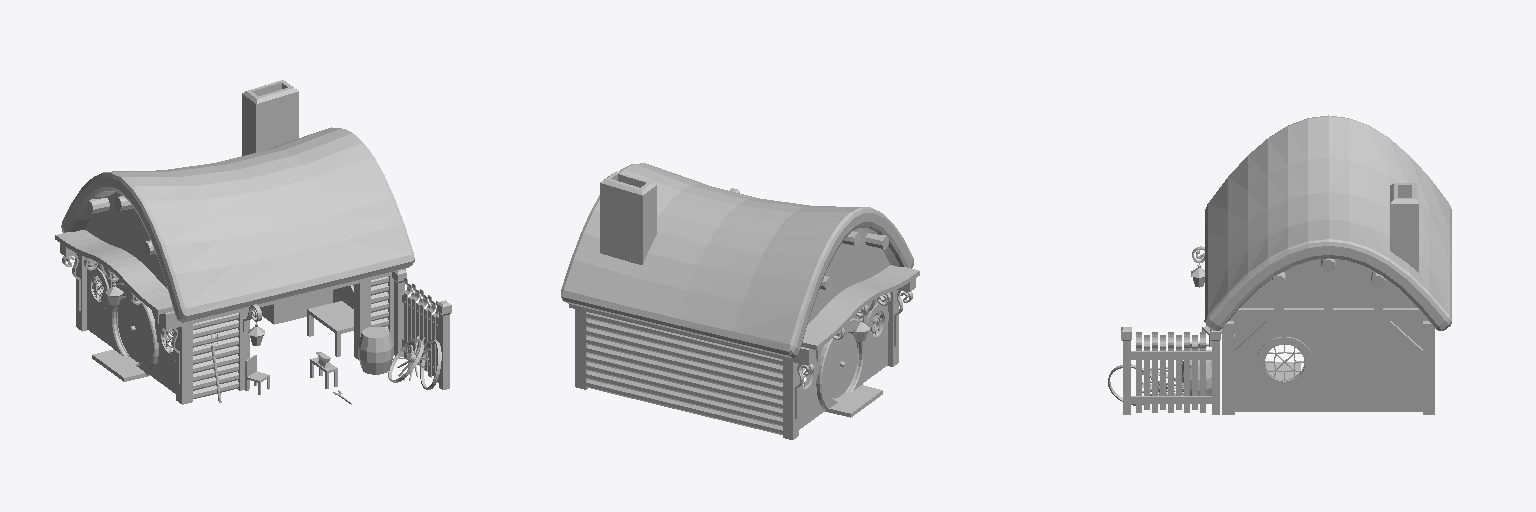
The model's file is house2.obj.
The picture shows the model from 3 angles: view 1: azimuth 30°, elevation 25°; view 2: azimuth 150°, elevation 25°; view 3: azimuth 270°, elevation 25°; orthographic projection.
Visible parts, largest first — view 1: black_smith:Object_Blksmith_jpg; view 2: black_smith:Object_Blksmith_jpg; view 3: black_smith:Object_Blksmith_jpg.
Part boxes in pixels (x1,y1,x2,y2): black_smith:Object_Blksmith_jpg: (55,80,451,404); black_smith:Object_Blksmith_jpg: (561,163,919,439); black_smith:Object_Blksmith_jpg: (1108,115,1451,414).
Bounding box in the file's own units: 2.09 × 1.65 × 2.5.